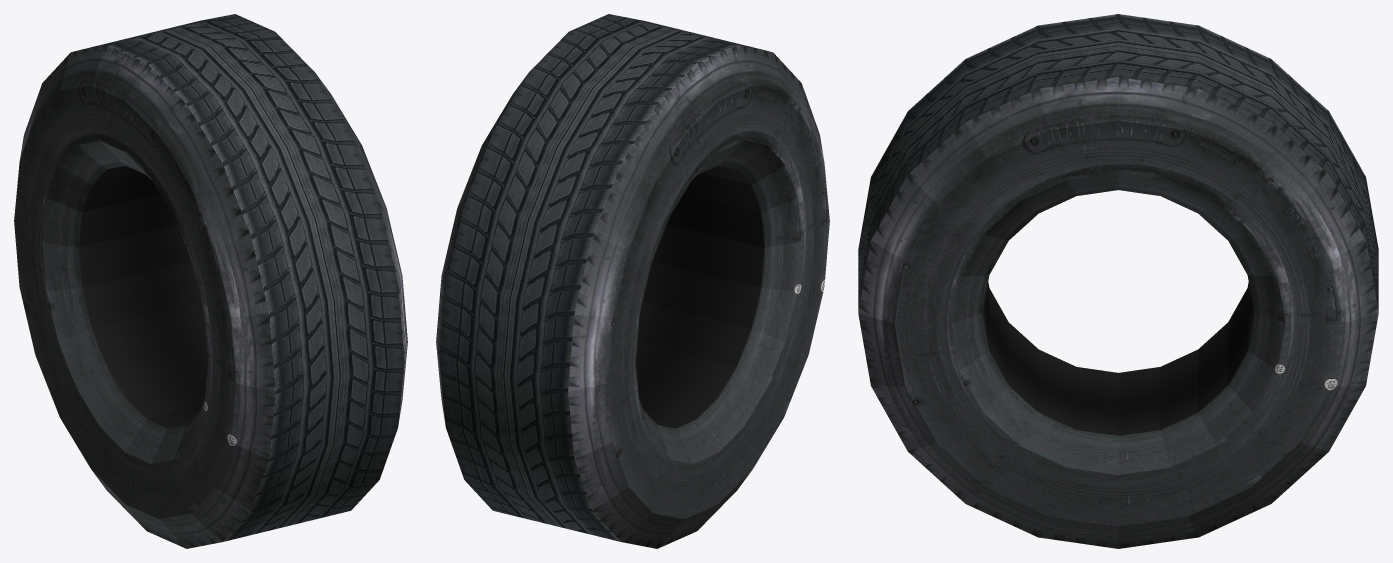
Rendered from tire_prop.glb.
3 views of the same model, side by side, from view 1: azimuth 30°, elevation 25°; view 2: azimuth 150°, elevation 25°; view 3: azimuth 270°, elevation 25° (orthographic).
Parts seen in each view (by area): view 1: Tire; view 2: Tire; view 3: Tire.
Part boxes in pixels (box(x1,y1,x2,y2)): Tire: box(14, 14, 407, 548); Tire: box(436, 14, 829, 548); Tire: box(858, 14, 1378, 548).
Size of the model in its own units: 0.7661 by 2 by 2.
Materials: 1 (1 with a texture image).
